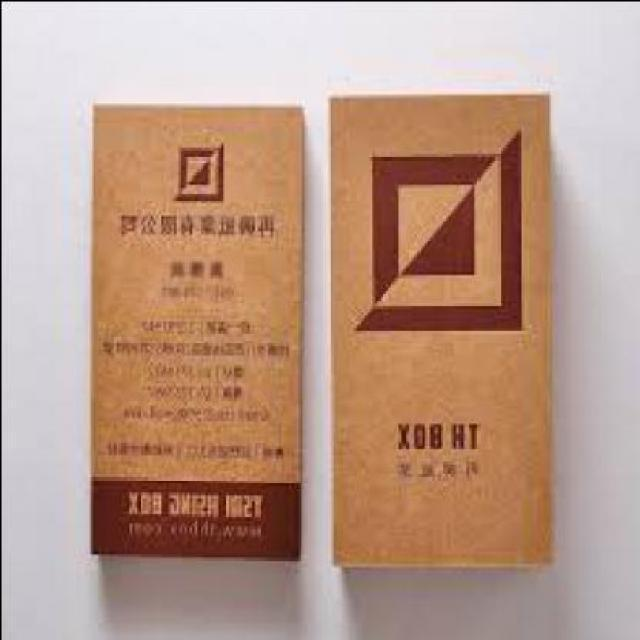box: (334, 88, 557, 566), (92, 100, 306, 557)
